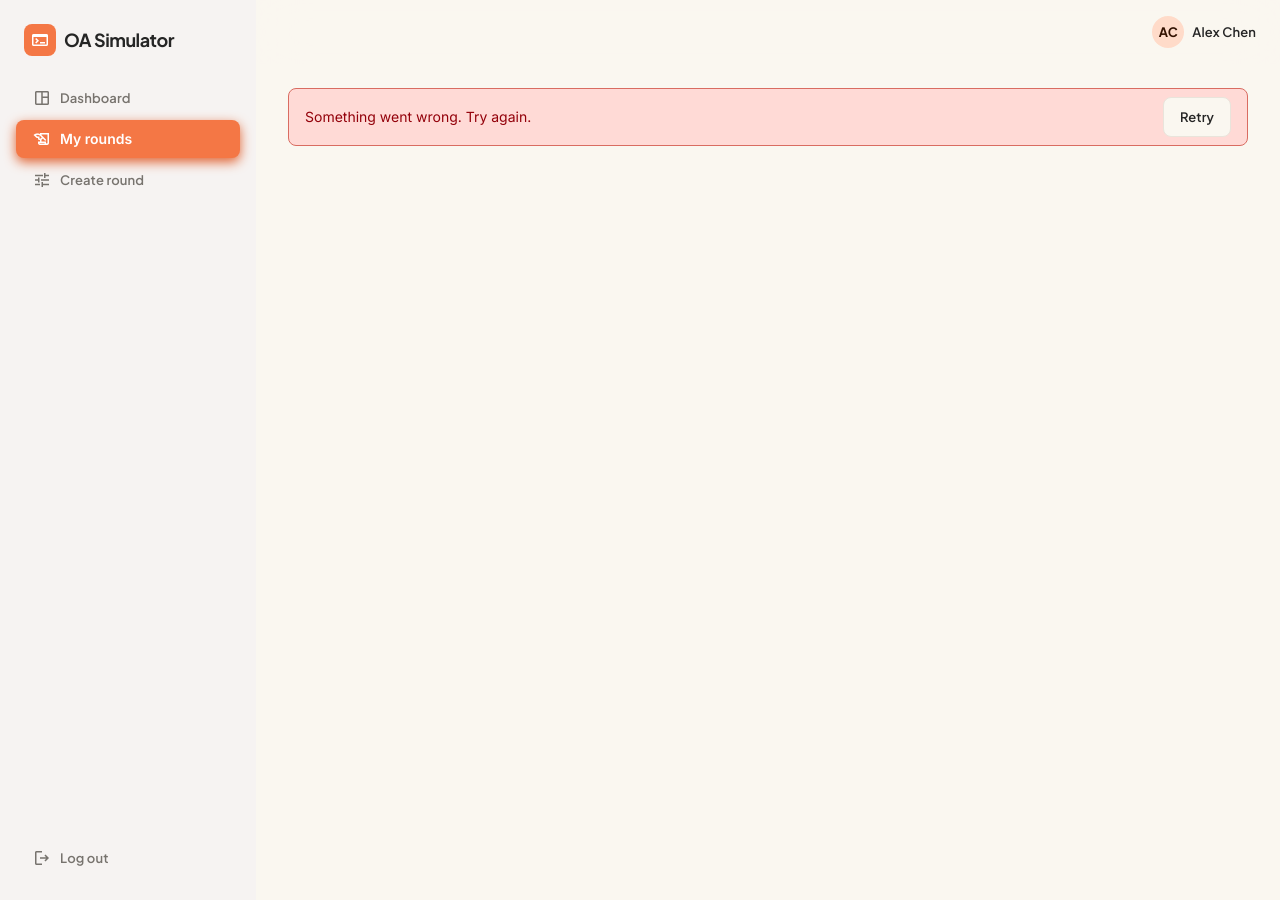
a round that cannot be loaded › a failure on the round router shows the error with Retry, and Retry routes by status
Check: the message shows "Something went wrong. Try again.", box x1=305 y1=108 x2=531 y2=125
Click the button "Retry". click: click(1197, 117)
box: x1=1163 y1=97 x2=1231 y2=137
(page scrolled)
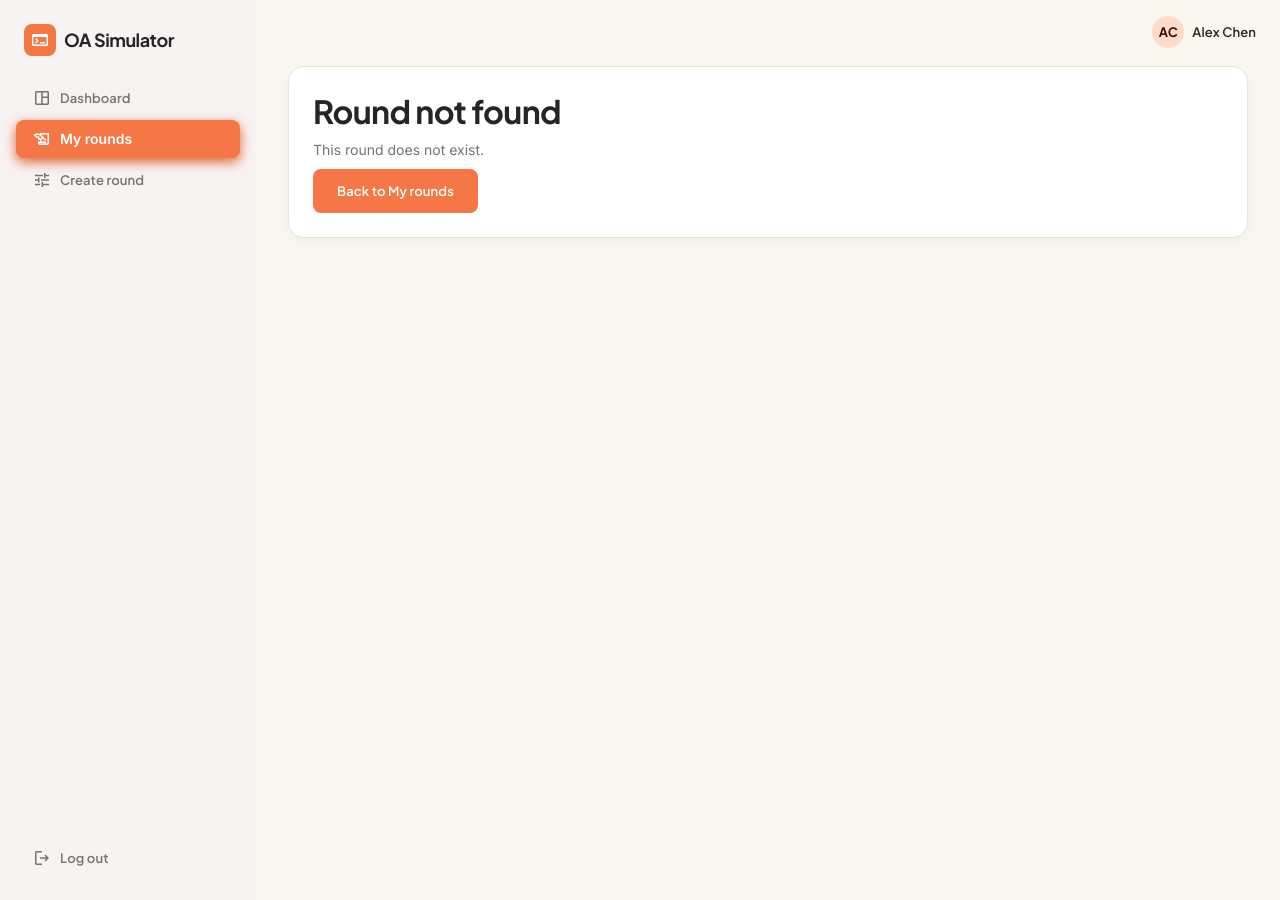
Check: the element with test id "screen-S10" is shown, box x1=256 y1=42 x2=1279 y2=262
